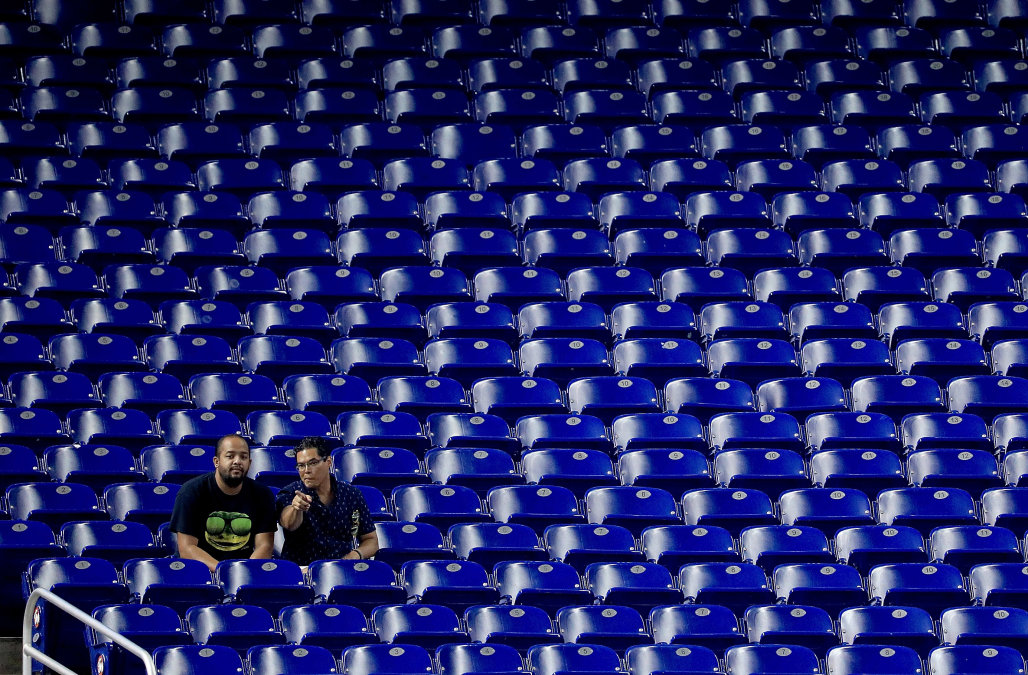Person: (169, 436, 275, 572), (277, 438, 380, 560)
